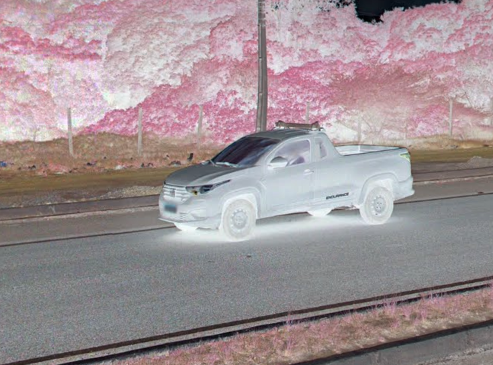car: (156, 119, 417, 241)
